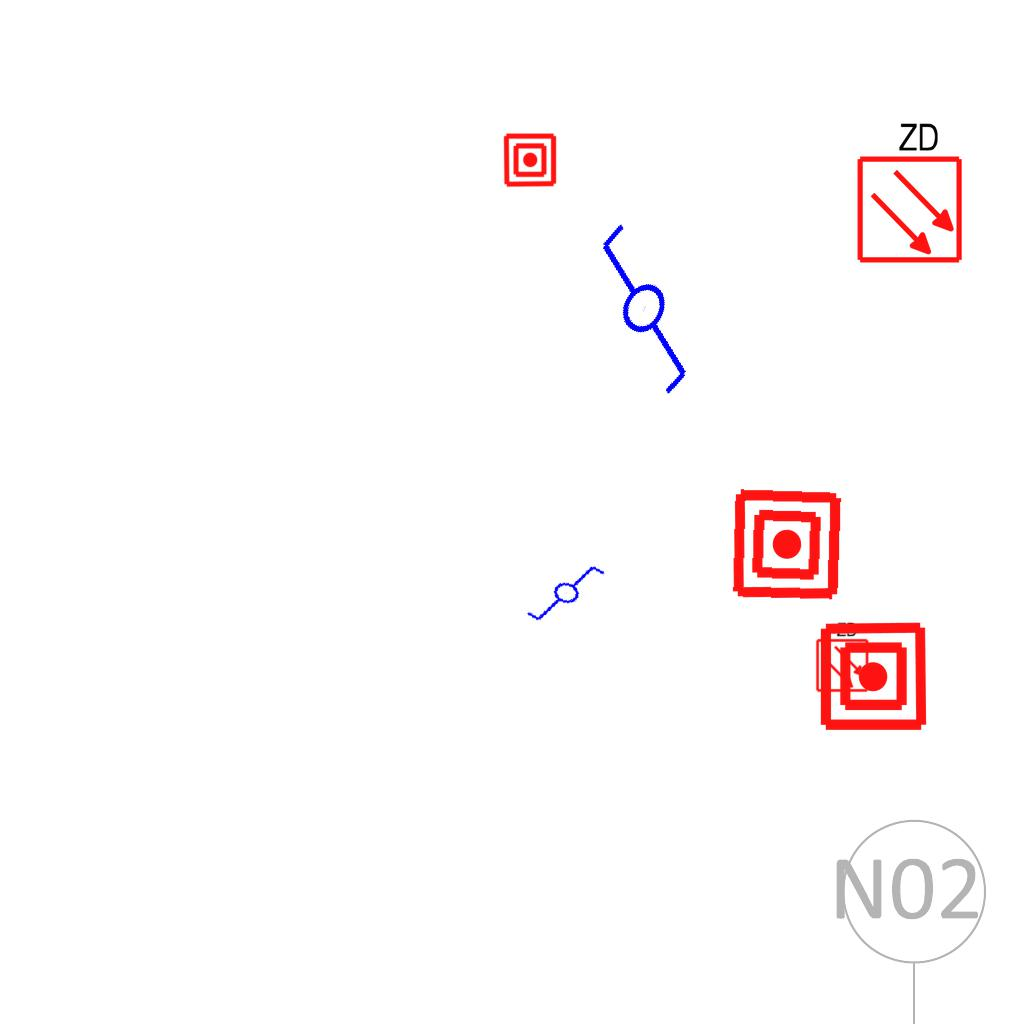NAM-Nichtautomatischer_Melder: (728, 486, 845, 603), (817, 620, 930, 733), (502, 132, 558, 188)
Wechselschalter: (550, 199, 749, 405), (523, 550, 617, 640)
ZD_Melder_in_Zwischendecke_mit_Revisionsoeffnung_mind_40_x_40_cm: (851, 116, 965, 265), (813, 619, 870, 693)
